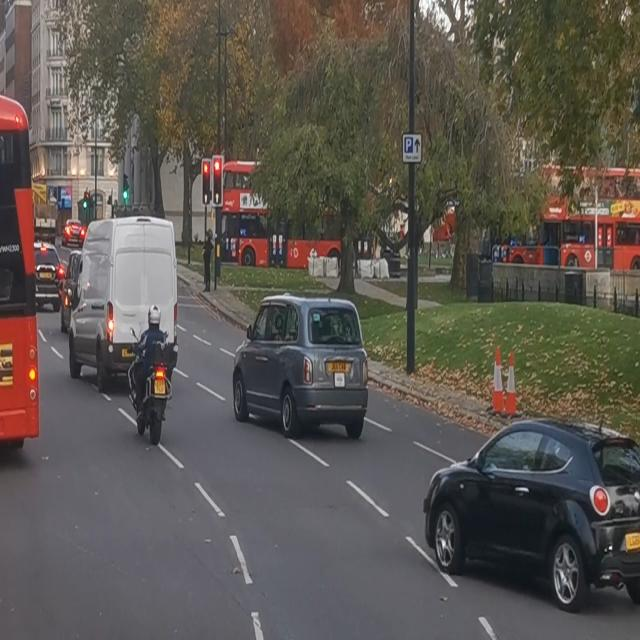Car: (420, 427, 636, 611), (232, 291, 371, 434), (66, 213, 177, 384)
